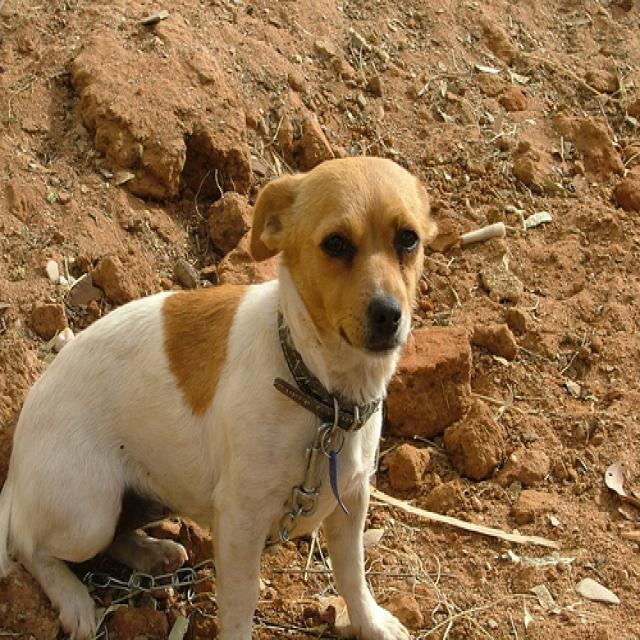dog: (250, 155, 457, 360)
